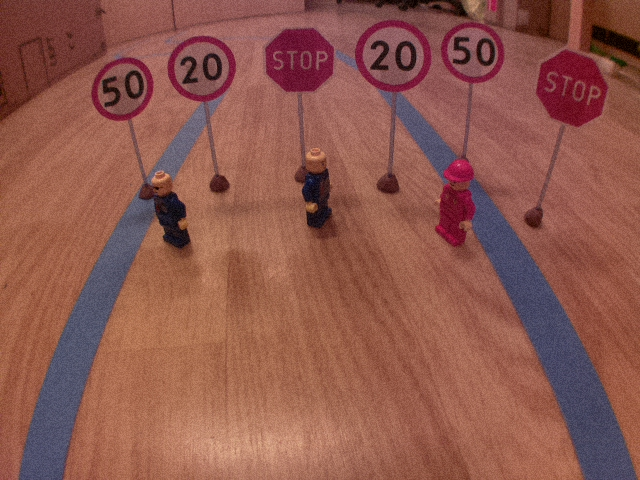LEGO_person: (431, 156, 477, 251), (148, 168, 194, 253), (297, 144, 339, 233)
ogr_20: (352, 17, 435, 94), (163, 34, 240, 104)
ogr_50: (87, 55, 156, 124), (436, 20, 508, 86)
stop: (532, 45, 612, 131), (259, 22, 338, 97)
